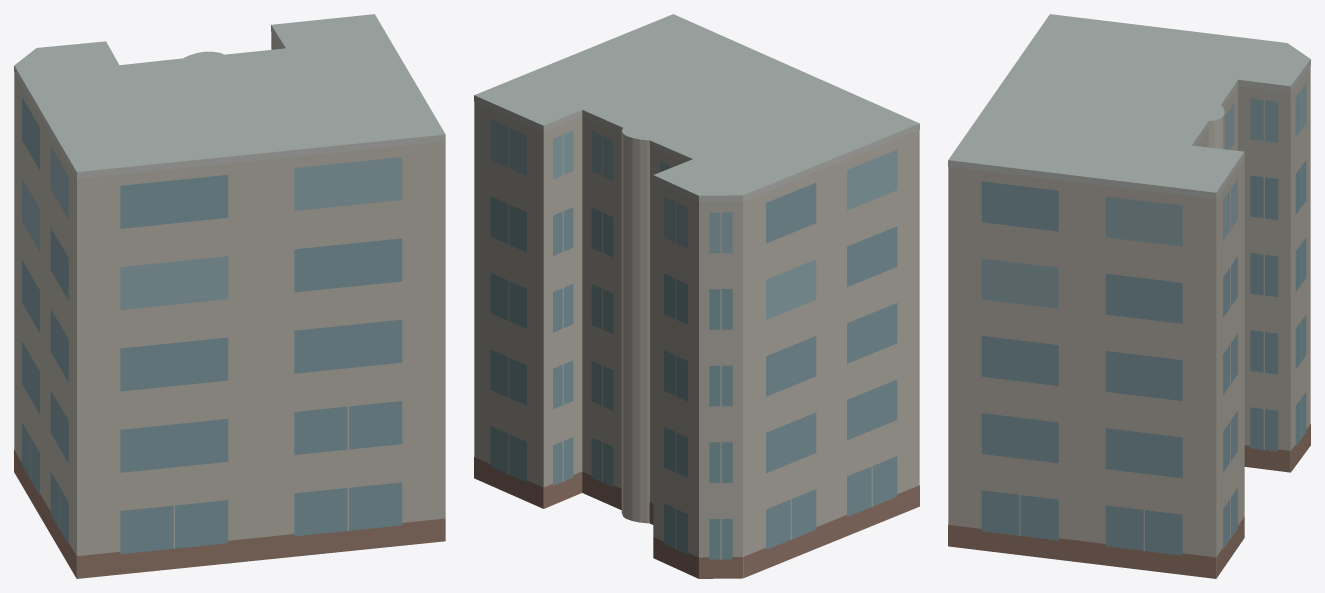
The model's file is survey-upis-32875687.glb.
The picture shows the model from 3 angles, left to right: view 1: azimuth 30°, elevation 25°; view 2: azimuth 150°, elevation 25°; view 3: azimuth 270°, elevation 25°; orthographic projection. The views are drawn at different scales.
Visible parts, largest first — view 1: survey-upis-32875687.tmp; view 2: survey-upis-32875687.tmp; view 3: survey-upis-32875687.tmp.
Boxes of the visible parts, left/top/right/bottom form: survey-upis-32875687.tmp: left=14, top=14, right=445, bottom=578; survey-upis-32875687.tmp: left=474, top=14, right=919, bottom=578; survey-upis-32875687.tmp: left=948, top=14, right=1310, bottom=578.
Bounding box in the file's own units: 14.49 × 14.6 × 12.44.
